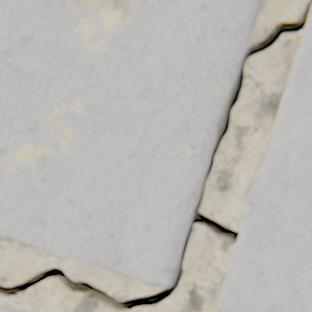brick: (0, 0, 261, 287), (217, 5, 311, 311), (0, 307, 11, 311)
crack: (0, 0, 311, 311)
